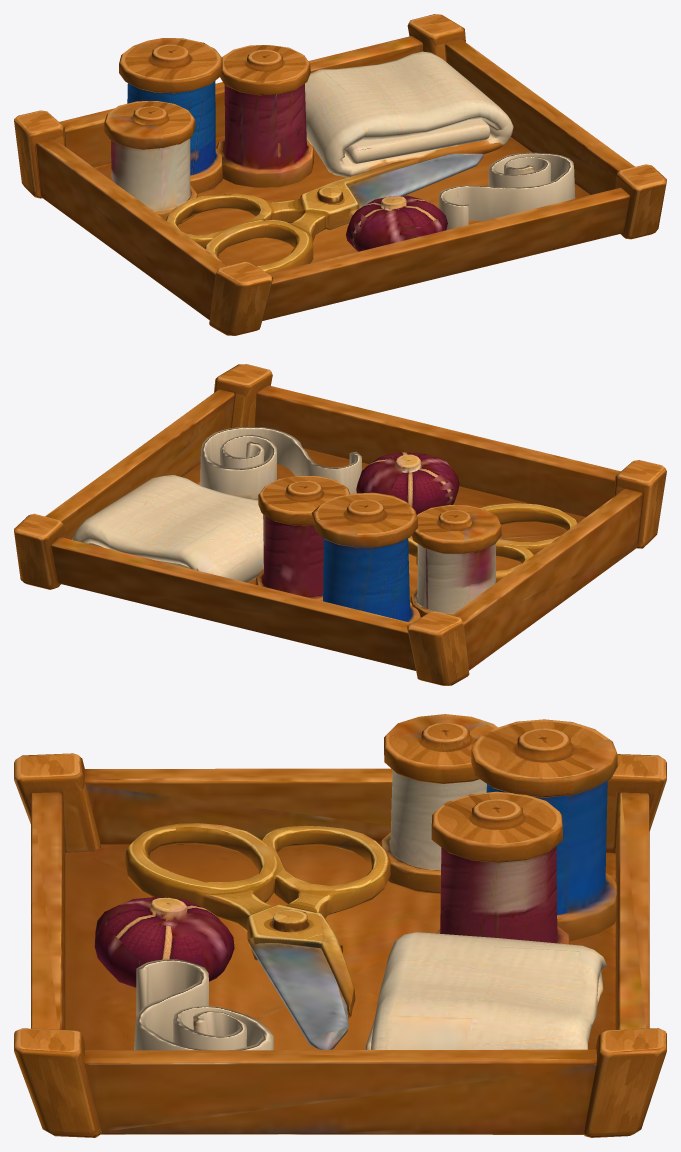
File: tailor_sewing_tray.glb
3 renders of one model, top to bottom at view 1: azimuth 30°, elevation 25°; view 2: azimuth 150°, elevation 25°; view 3: azimuth 270°, elevation 25°, orthographic. The views are drawn at different scales.
Parts seen in each view (by area): view 1: kit-tailor-sewing-tray-1; view 2: kit-tailor-sewing-tray-1; view 3: kit-tailor-sewing-tray-1.
Part boxes in pixels (left/top/right/bottom): kit-tailor-sewing-tray-1: left=14, top=14, right=666, bottom=335; kit-tailor-sewing-tray-1: left=14, top=364, right=666, bottom=685; kit-tailor-sewing-tray-1: left=14, top=714, right=666, bottom=1137.
Bounding box in the file's own units: 0.72 × 0.2032 × 0.6572.
Materials: 1 (1 with a texture image).
